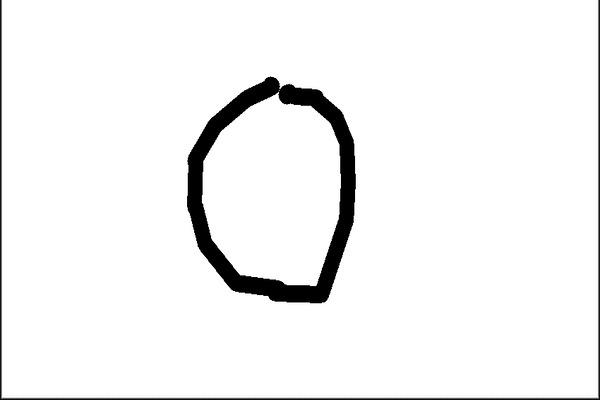O: (163, 64, 359, 318)
